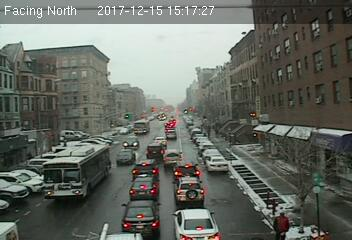bus: (42, 144, 110, 203)
car: (171, 206, 218, 240), (120, 200, 161, 236), (173, 178, 205, 205), (129, 179, 158, 199), (173, 162, 200, 181), (132, 160, 158, 179), (206, 156, 229, 173), (115, 149, 135, 166), (162, 150, 183, 165), (146, 143, 164, 160), (122, 137, 138, 148)
